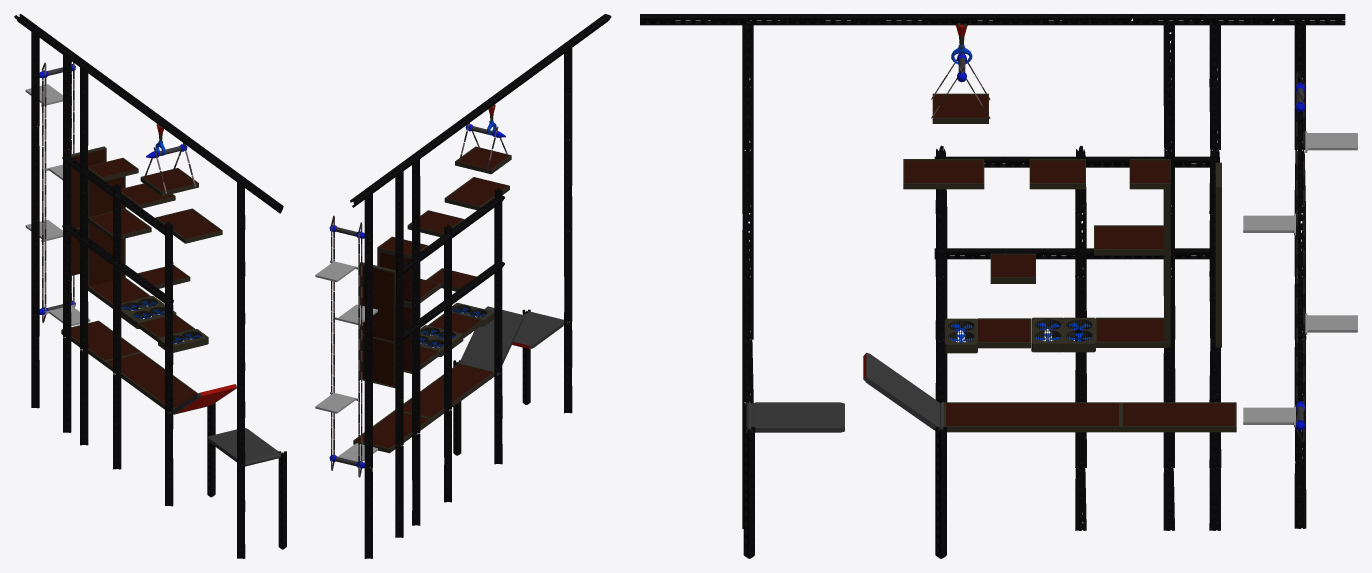
Rendered from fabrica_kawiisaki.obj.
3 renders of one model, left to right at view 1: azimuth 30°, elevation 25°; view 2: azimuth 150°, elevation 25°; view 3: azimuth 270°, elevation 25°, orthographic. The views are drawn at different scales.
Parts seen in each view (by area): view 1: Cube.070_Cube.084, Cube, gancho_001_Cube.028, Cube.012_Cube.013, Cube.001_Cube.003, Cube.006_Cube.007, Cube.003_Cube.004, Cube.007_Cube.008, Cube.014_Cube.015, Cube.009_Cube.010, Cube.005_Cube.006, Cube.011_Cube.012 (+13 smaller); view 2: Cube.070_Cube.084, Cube, Cube.014_Cube.015, Cube.002, gancho_001_Cube.028, Cube.013_Cube.014, Cube.001_Cube.003, Cube.012_Cube.013, Cube.003_Cube.004, Cube.011_Cube.012, Cube.004_Cube.005, Cube.009_Cube.010 (+10 smaller); view 3: Cube.070_Cube.084, Cube, Cube.001_Cube.003, Cube.003_Cube.004, Cube.012_Cube.013, Cube.002, gancho_001_Cube.028, Cube.007_Cube.008, Cube.005_Cube.006, Cube.011_Cube.012, Cube.004_Cube.005, Cube.008_Cube.009 (+9 smaller).
Boxes of the visible parts, bbox=[...] form: Cube.070_Cube.084: bbox=[14, 14, 283, 558]; Cube: bbox=[104, 352, 197, 409]; gancho_001_Cube.028: bbox=[140, 123, 198, 196]; Cube.012_Cube.013: bbox=[155, 208, 222, 243]; Cube.001_Cube.003: bbox=[61, 320, 140, 364]; Cube.006_Cube.007: bbox=[88, 222, 125, 289]; Cube.003_Cube.004: bbox=[208, 428, 278, 462]; Cube.007_Cube.008: bbox=[88, 208, 151, 239]; Cube.014_Cube.015: bbox=[71, 146, 106, 228]; Cube.009_Cube.010: bbox=[88, 176, 125, 217]; Cube.005_Cube.006: bbox=[88, 277, 150, 308]; Cube.011_Cube.012: bbox=[121, 183, 175, 208]; Cube.070_Cube.084: bbox=[350, 14, 611, 558]; Cube: bbox=[403, 363, 494, 422]; Cube.014_Cube.015: bbox=[359, 262, 395, 343]; Cube.002: bbox=[460, 306, 523, 370]; gancho_001_Cube.028: bbox=[455, 104, 511, 174]; Cube.013_Cube.014: bbox=[359, 335, 395, 387]; Cube.001_Cube.003: bbox=[353, 410, 431, 453]; Cube.012_Cube.013: bbox=[444, 177, 509, 210]; Cube.003_Cube.004: bbox=[512, 312, 563, 348]; Cube.011_Cube.012: bbox=[407, 210, 464, 236]; Cube.004_Cube.005: bbox=[428, 312, 483, 338]; Cube.009_Cube.010: bbox=[377, 251, 414, 303]; Cube.070_Cube.084: bbox=[640, 14, 1345, 530]; Cube: bbox=[944, 402, 1121, 432]; Cube.001_Cube.003: bbox=[1121, 402, 1236, 432]; Cube.003_Cube.004: bbox=[751, 402, 844, 432]; Cube.012_Cube.013: bbox=[903, 159, 984, 189]; Cube.002: bbox=[863, 352, 939, 430]; gancho_001_Cube.028: bbox=[931, 23, 990, 123]; Cube.007_Cube.008: bbox=[1094, 225, 1169, 255]; Cube.005_Cube.006: bbox=[1095, 317, 1168, 347]; Cube.011_Cube.012: bbox=[1029, 159, 1085, 189]; Cube.004_Cube.005: bbox=[977, 318, 1030, 348]; Cube.008_Cube.009: bbox=[990, 253, 1035, 283].
Bounding box in the file's own units: 5.71 × 33.87 × 42.92.
